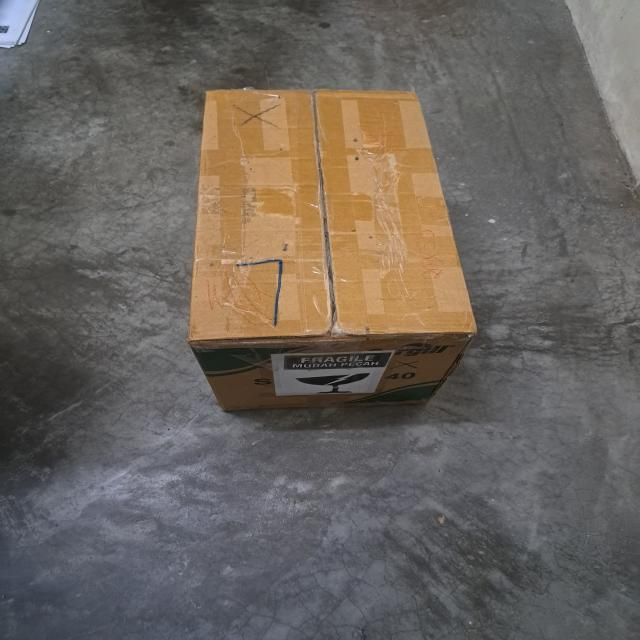cardboard: (186, 88, 480, 414)
